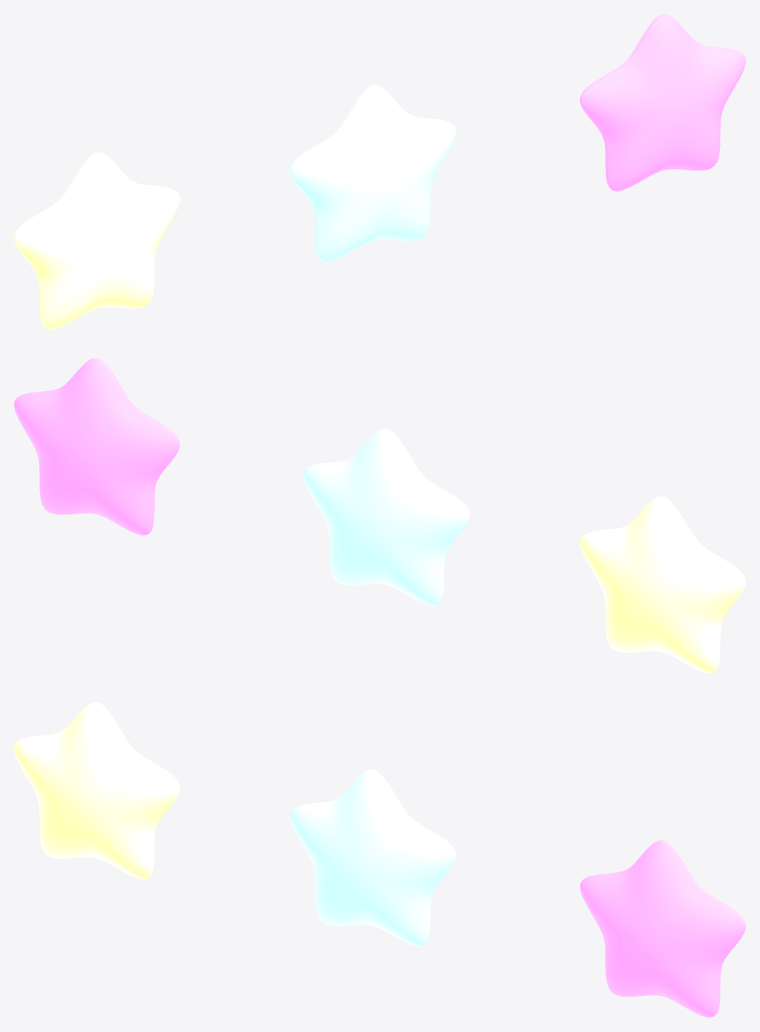
Rendered from RRound the world_Sao.fbx.
3 renders of one model, top to bottom at view 1: azimuth 30°, elevation 25°; view 2: azimuth 150°, elevation 25°; view 3: azimuth 330°, elevation 25°, orthographic.
Parts seen in each view (by area): view 1: Circle_0.001, Circle_0; view 2: Circle_0.001, Circle_0; view 3: Circle_0.001, Circle_0.
Boxes of the visible parts, x1,y1,x2,y2 form: Circle_0.001: [290, 14, 745, 262]; Circle_0: [14, 152, 179, 329]; Circle_0.001: [14, 358, 469, 606]; Circle_0: [580, 496, 745, 673]; Circle_0.001: [290, 769, 745, 1017]; Circle_0: [14, 702, 179, 879].
Bounding box in the file's own units: 82.08 × 5.73 × 17.76.
